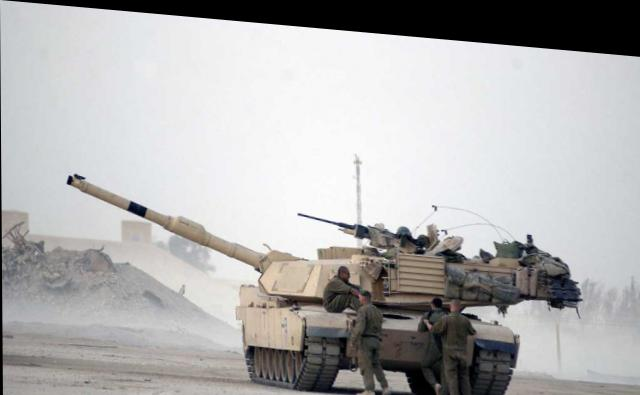other: (354, 283, 398, 394), (410, 283, 448, 393), (443, 284, 477, 392), (314, 243, 353, 306), (317, 248, 358, 301)
tank: (229, 213, 584, 394)
